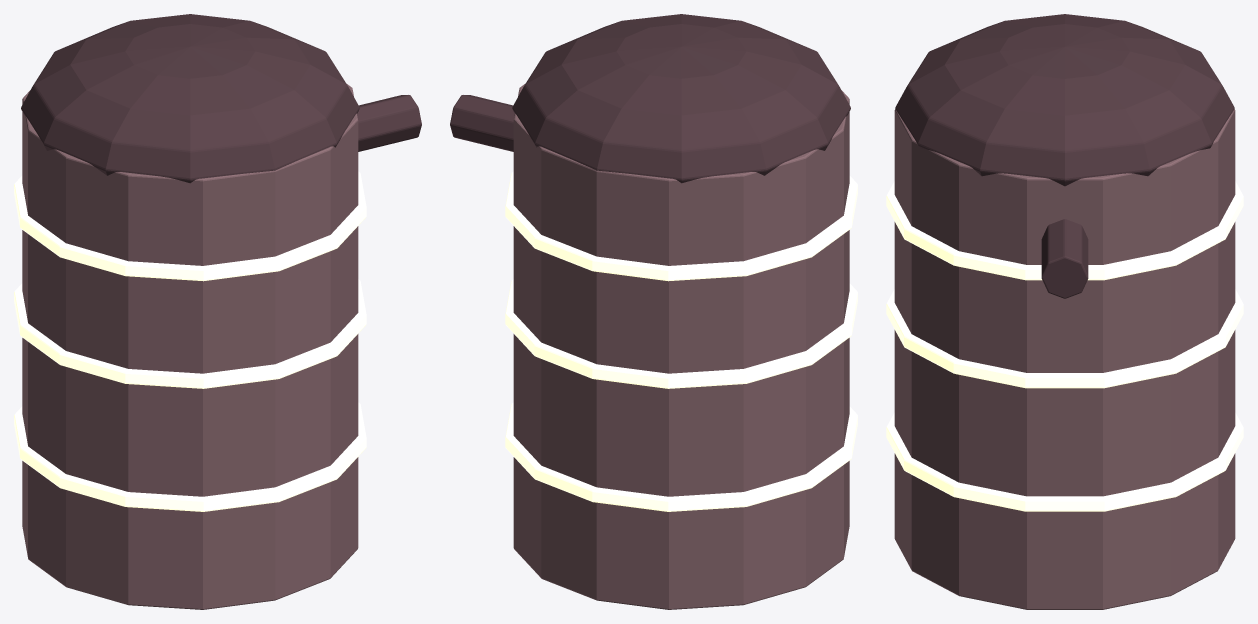
The model's file is SM_Schlachthof_Boiler.fbx.
3 views of the same model, side by side, from view 1: azimuth 30°, elevation 25°; view 2: azimuth 150°, elevation 25°; view 3: azimuth 270°, elevation 25° (orthographic).
Visible parts, largest first — view 1: SM_Schlachthof_Boiler; view 2: SM_Schlachthof_Boiler; view 3: SM_Schlachthof_Boiler.
Part boxes in pixels (x1,y1,x2,y2): SM_Schlachthof_Boiler: [14, 14, 421, 609]; SM_Schlachthof_Boiler: [450, 14, 857, 609]; SM_Schlachthof_Boiler: [886, 14, 1243, 609].
Bounding box in the file's own units: 2.52 × 3.2 × 2.1.
